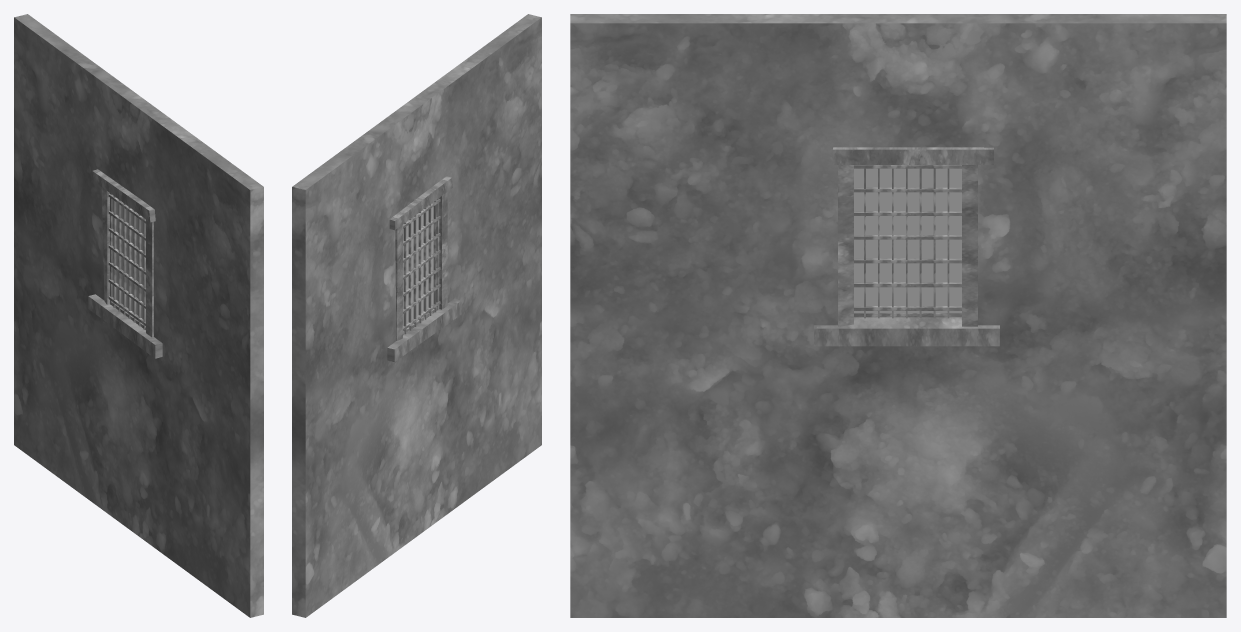
Rendered from SM_WallWindow_01b.fbx.
The picture shows the model from 3 angles, left to right: view 1: azimuth 30°, elevation 25°; view 2: azimuth 150°, elevation 25°; view 3: azimuth 270°, elevation 25°; orthographic projection. The views are drawn at different scales.
Parts seen in each view (by area): view 1: SM_WallWindow_01b_LOD0; view 2: SM_WallWindow_01b_LOD0; view 3: SM_WallWindow_01b_LOD0.
Part boxes in pixels (<box>): SM_WallWindow_01b_LOD0: <box>14,14,263,617</box>; SM_WallWindow_01b_LOD0: <box>292,14,541,617</box>; SM_WallWindow_01b_LOD0: <box>570,14,1226,617</box>.
Size of the model in its own units: 19.19 by 300 by 300.
